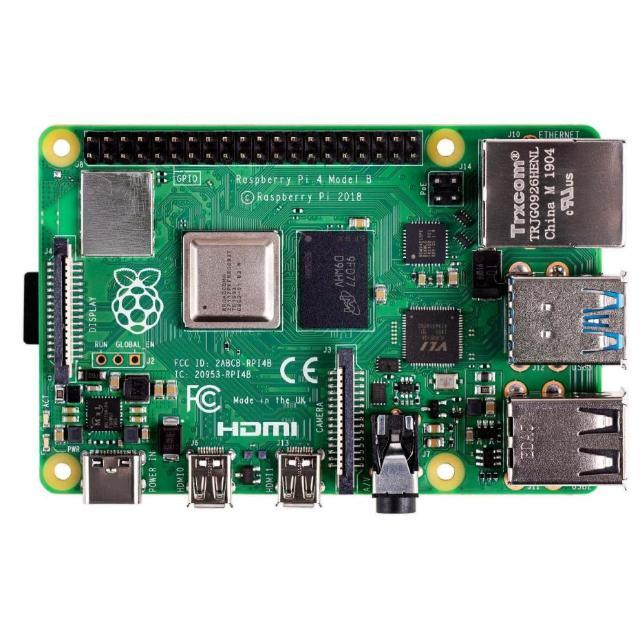Raspberry-Pi-4-B: (25, 126, 626, 513)
